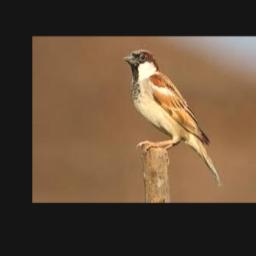Sparrow: (123, 49, 223, 188)
